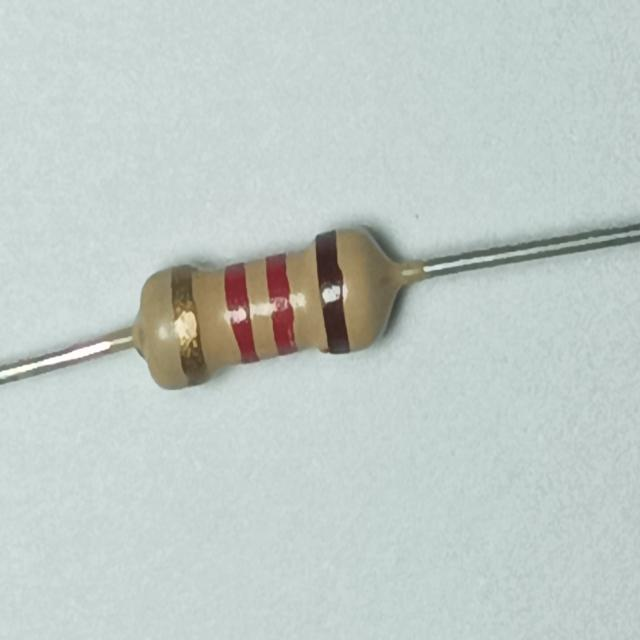1.2k ohms: (129, 218, 408, 398)
